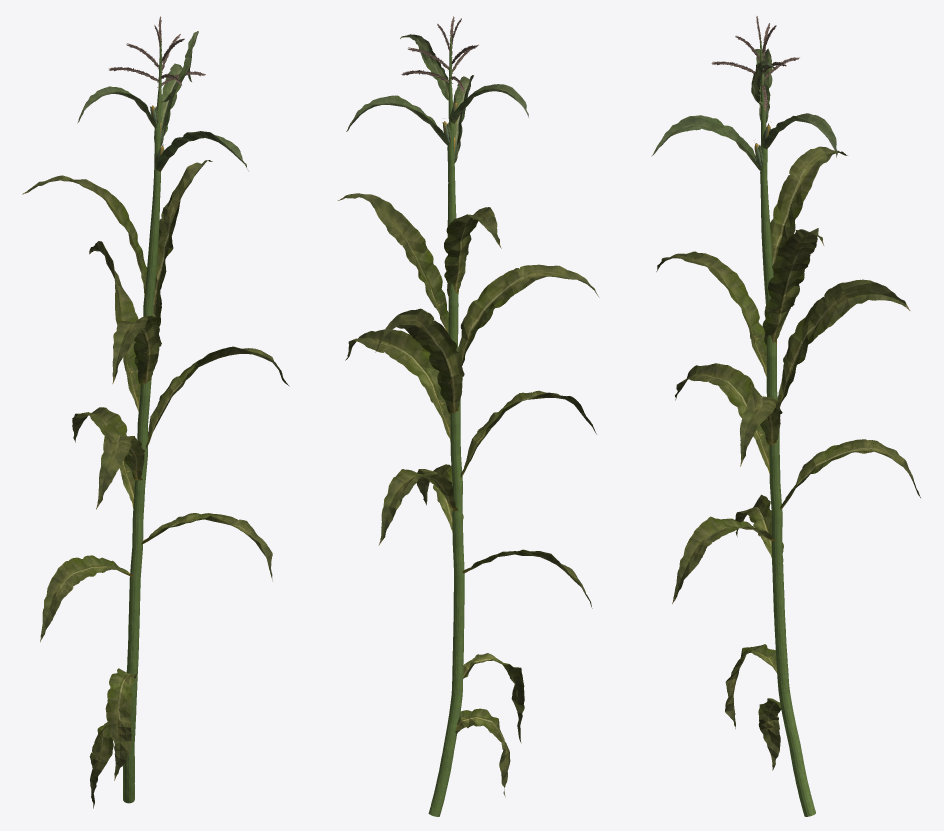
The model's file is corn_variant_5.dae.
The picture shows the model from 3 angles, left to right: view 1: azimuth 30°, elevation 25°; view 2: azimuth 150°, elevation 25°; view 3: azimuth 270°, elevation 25°; orthographic projection. The views are drawn at different scales.
Parts seen in each view (by area): view 1: LeavesMid, Stem, LeavesTop, FlowerTop; view 2: LeavesMid, Stem, LeavesTop, FlowerTop; view 3: LeavesMid, Stem, LeavesTop, FlowerTop.
Boxes of the visible parts, x1,y1,x2,y2 form: LeavesMid: [22, 160, 289, 808]; Stem: [123, 37, 161, 803]; LeavesTop: [77, 31, 248, 172]; FlowerTop: [109, 16, 205, 87]; LeavesMid: [338, 193, 599, 797]; Stem: [428, 34, 464, 816]; LeavesTop: [346, 34, 528, 163]; FlowerTop: [401, 16, 478, 92]; LeavesMid: [656, 146, 920, 770]; Stem: [760, 38, 815, 816]; LeavesTop: [651, 48, 837, 170]; FlowerTop: [711, 16, 799, 109].
Bounding box in the file's own units: 0.9519 × 0.8954 × 2.7.
